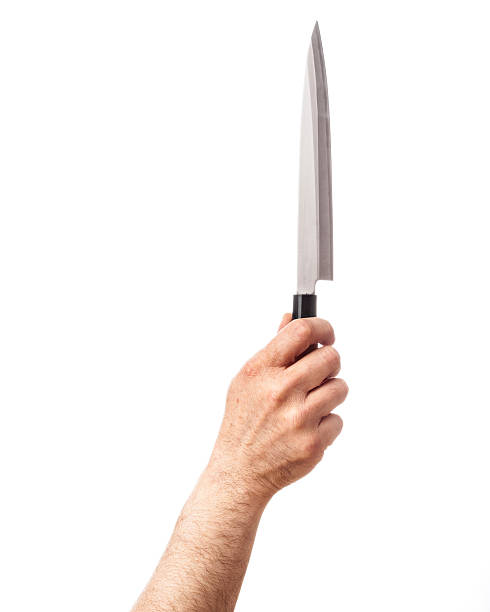knife: (290, 16, 331, 358)
